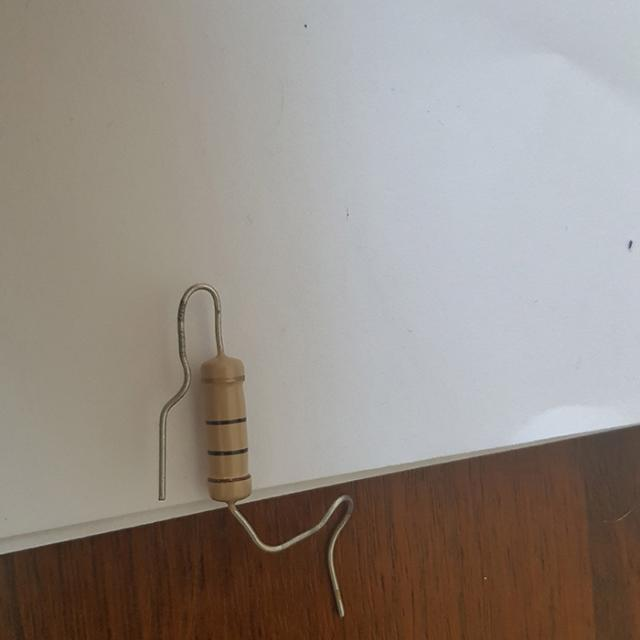black: (208, 419, 243, 426), (209, 451, 246, 456)
brown: (208, 477, 248, 484)
gold: (204, 377, 243, 384)
resistor: (191, 345, 262, 508)
